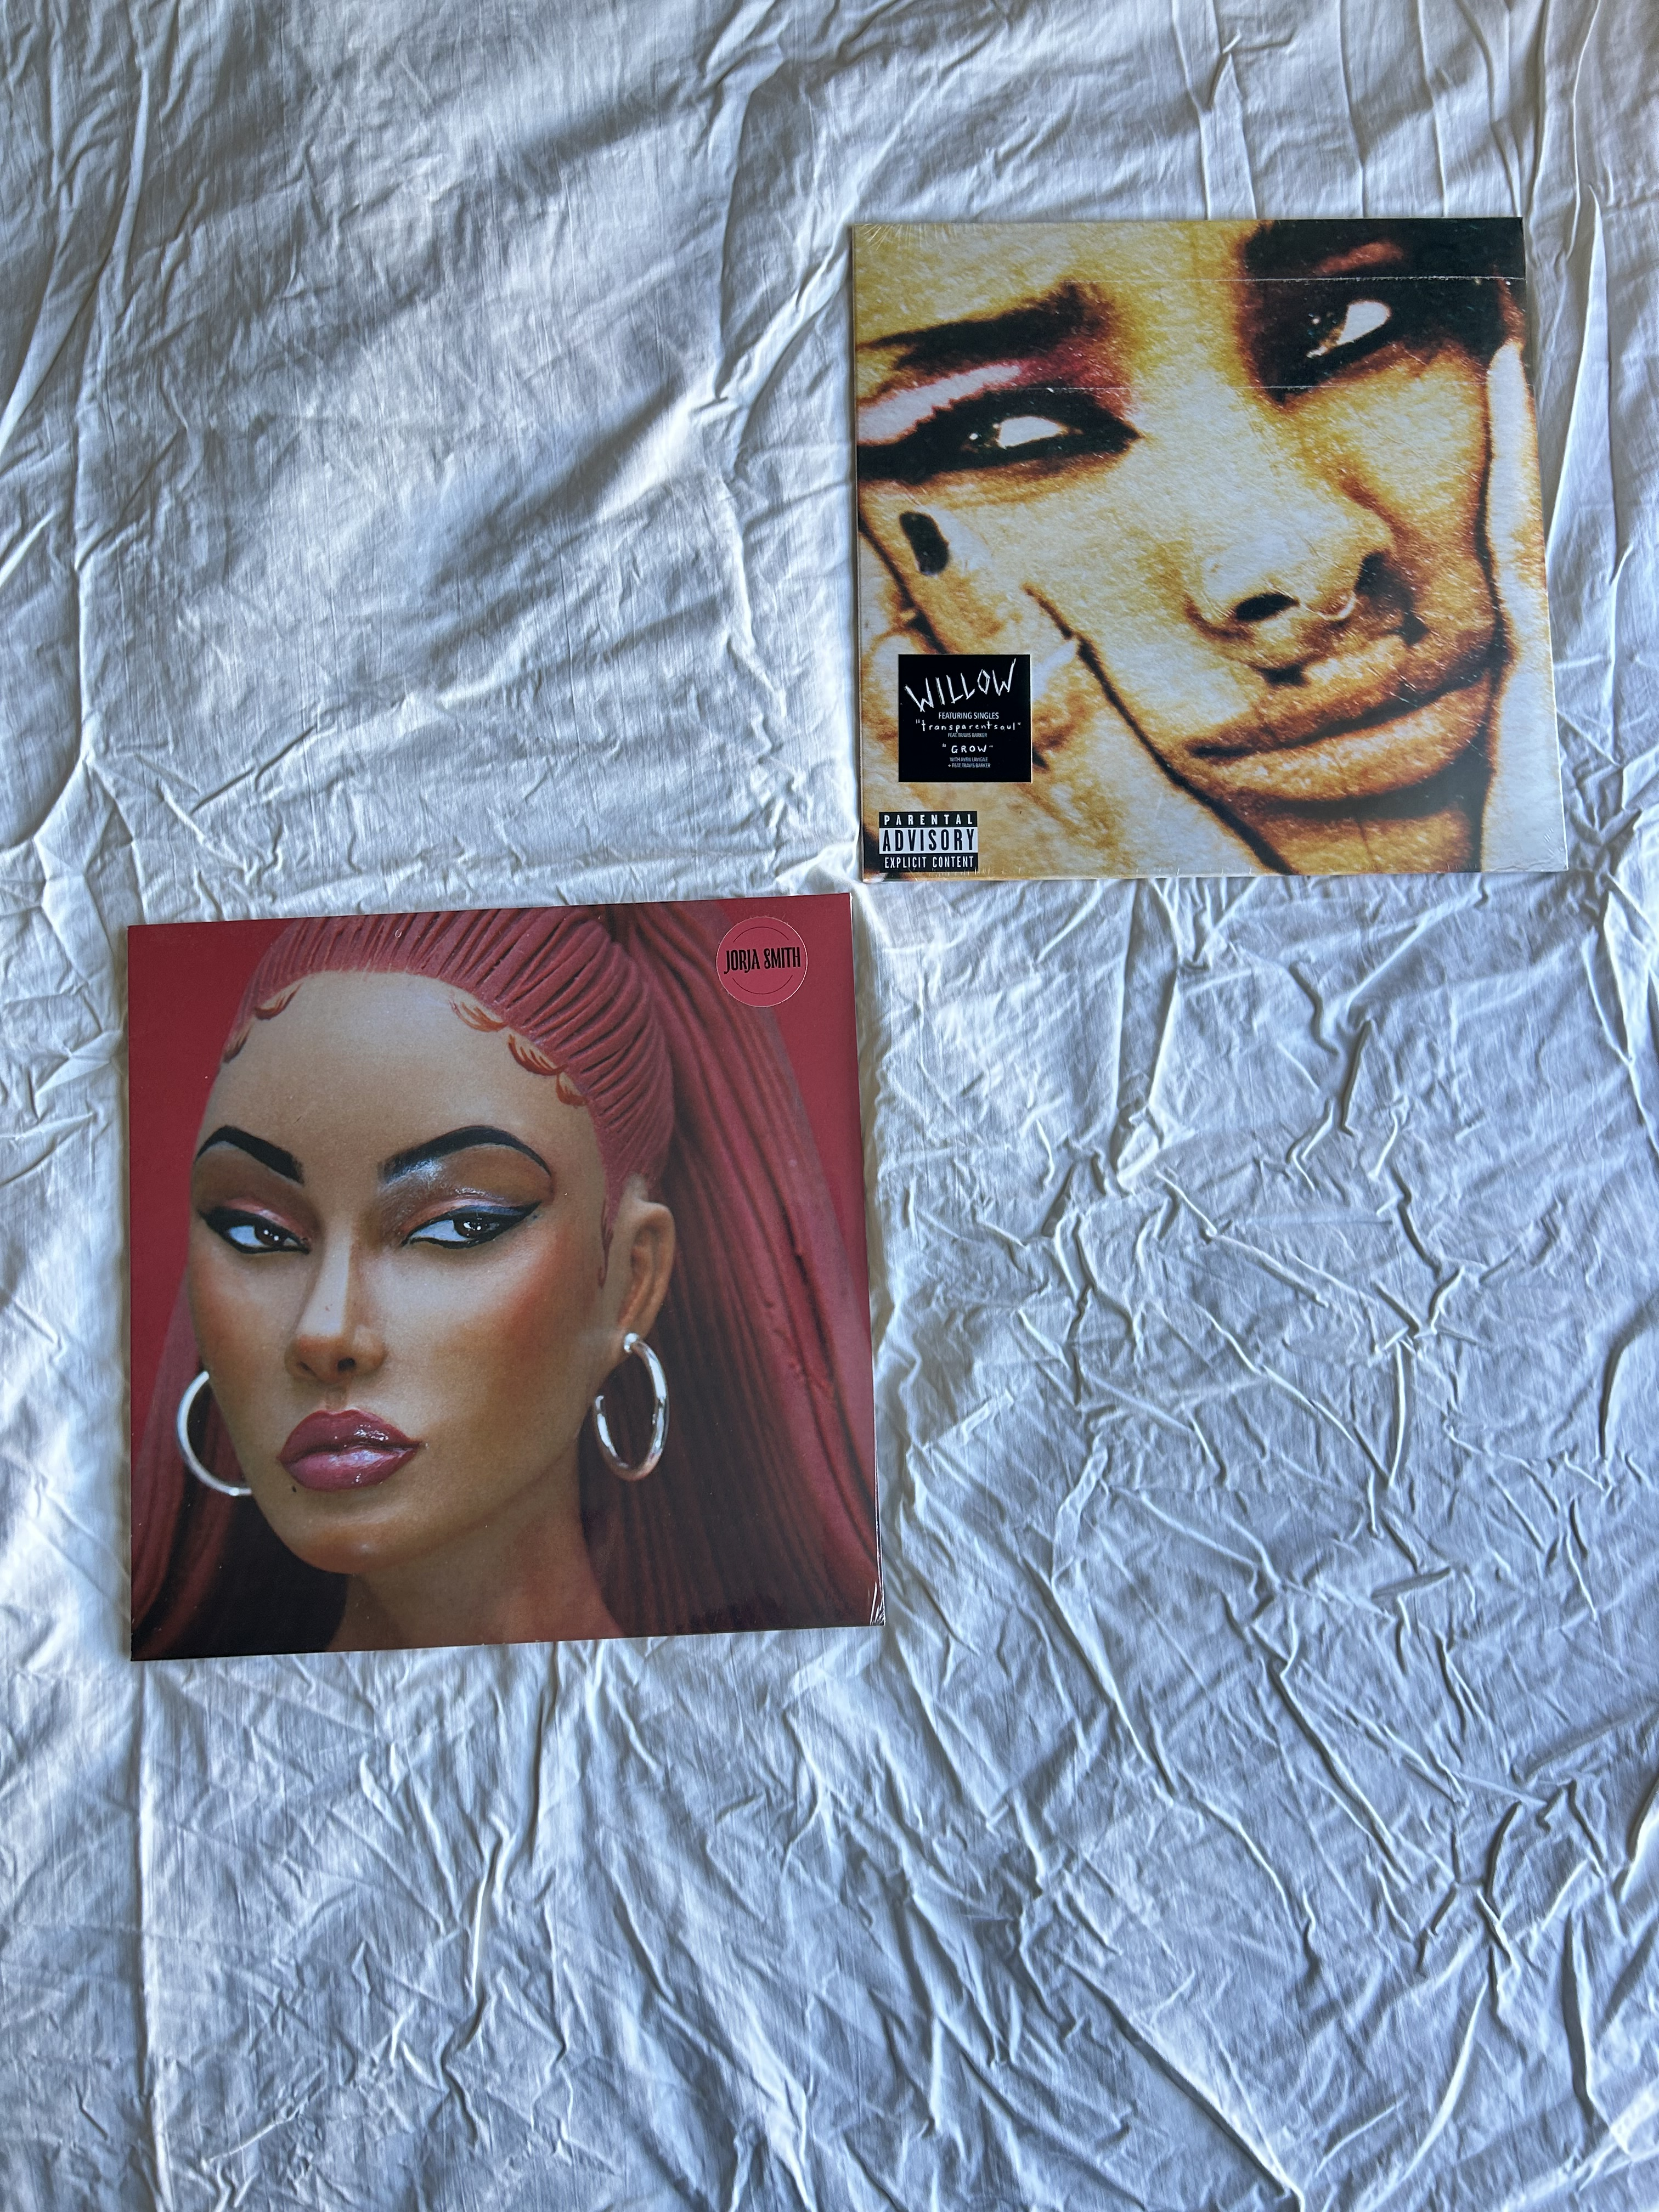jorja smith_be right back: (112, 920, 864, 1658)
willow_lately i feel everything: (842, 216, 1575, 881)
